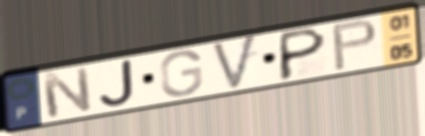G: (158, 48, 205, 99)
J: (96, 57, 137, 108)
N: (38, 64, 95, 121)
P: (275, 25, 329, 83), (329, 16, 380, 73)
V: (209, 32, 260, 93)
